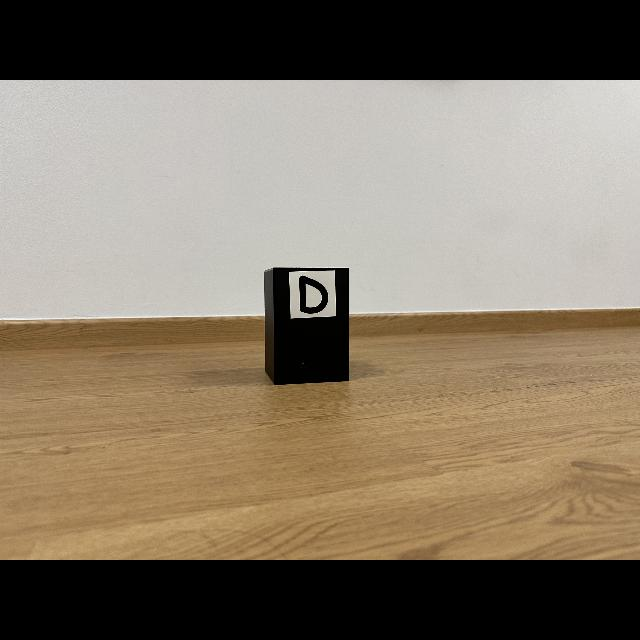D: (299, 275, 329, 314)
